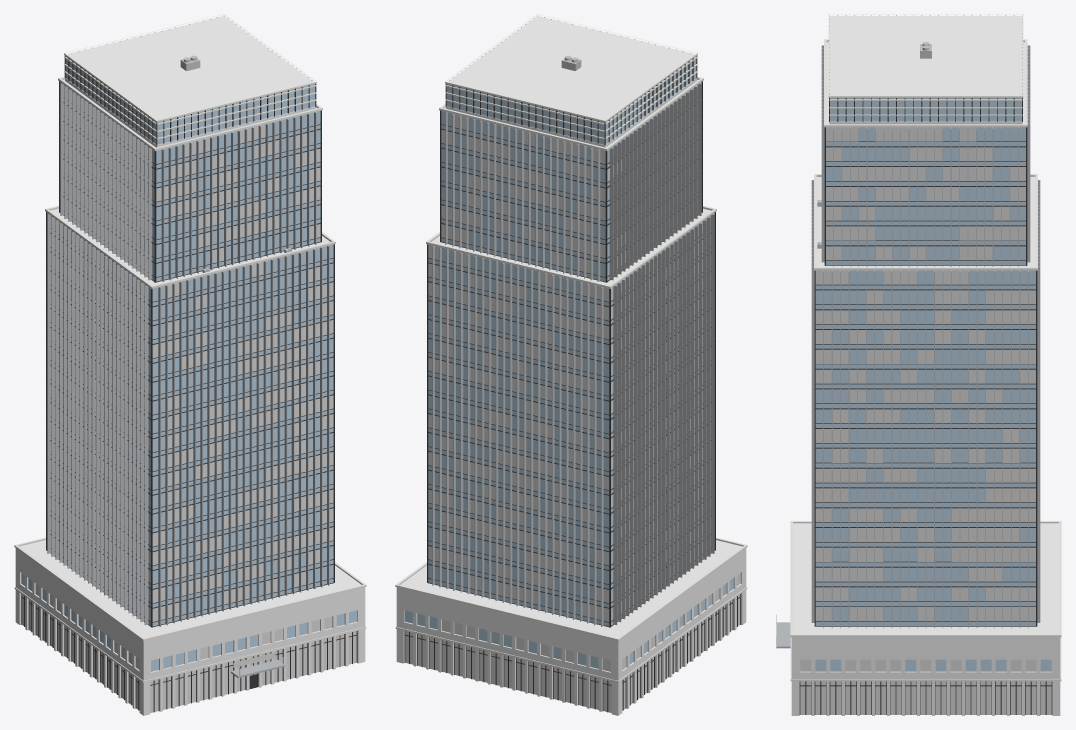
The model's file is tower_hero395.glb.
The picture shows the model from 3 angles, left to right: view 1: azimuth 30°, elevation 25°; view 2: azimuth 150°, elevation 25°; view 3: azimuth 270°, elevation 25°; orthographic projection. The views are drawn at different scales.
Visible parts, largest first — view 1: tower_hero395_Accent, tower_hero395_Glass, tower_hero395_WindowsLit, tower_hero395_Frames, tower_hero395_Roof, tower_hero395_Walls2, tower_hero395_Trim, tower_hero395_Neon; view 2: tower_hero395_Accent, tower_hero395_Glass, tower_hero395_WindowsLit, tower_hero395_Frames, tower_hero395_Roof, tower_hero395_Walls2, tower_hero395_Trim, tower_hero395_Neon; view 3: tower_hero395_Glass, tower_hero395_WindowsLit, tower_hero395_Roof, tower_hero395_Accent, tower_hero395_Frames, tower_hero395_Walls2, tower_hero395_Trim, tower_hero395_Neon.
Part boxes in pixels (<box>): tower_hero395_Accent: <box>47,83,329,677</box>; tower_hero395_Glass: <box>28,56,357,671</box>; tower_hero395_WindowsLit: <box>21,105,356,712</box>; tower_hero395_Frames: <box>21,17,357,712</box>; tower_hero395_Roof: <box>19,16,361,637</box>; tower_hero395_Walls2: <box>15,78,365,715</box>; tower_hero395_Trim: <box>14,14,366,682</box>; tower_hero395_Neon: <box>64,56,316,139</box>; tower_hero395_Accent: <box>432,83,714,626</box>; tower_hero395_Glass: <box>404,56,733,668</box>; tower_hero395_WindowsLit: <box>405,82,740,712</box>; tower_hero395_Frames: <box>404,17,740,712</box>; tower_hero395_Roof: <box>400,16,742,637</box>; tower_hero395_Walls2: <box>396,78,746,715</box>; tower_hero395_Trim: <box>395,14,747,682</box>; tower_hero395_Neon: <box>445,56,697,139</box>; tower_hero395_Glass: <box>815,98,1051,671</box>; tower_hero395_WindowsLit: <box>800,127,1051,714</box>; tower_hero395_Roof: <box>793,16,1058,634</box>; tower_hero395_Accent: <box>776,45,1040,648</box>; tower_hero395_Frames: <box>799,15,1052,714</box>; tower_hero395_Walls2: <box>791,122,1060,715</box>; tower_hero395_Trim: <box>790,14,1061,681</box>; tower_hero395_Neon: <box>828,98,1023,115</box>.
Size of the model in its own units: 161 by 403 by 170.
